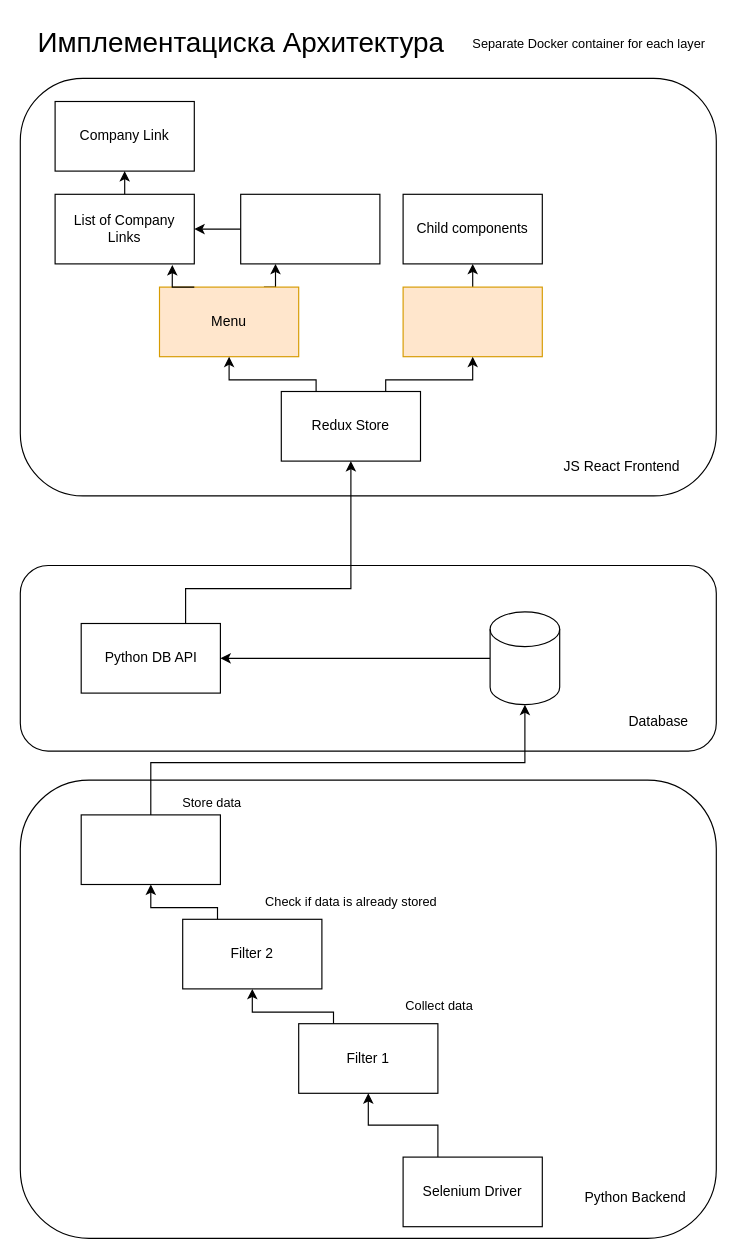
The diagram is 737 pixels wide and 1259 high, and some of its shapes have lost their labels. The shapes that lost their labels are listed below. From the top down, each one's centre as x and y in pixels, then its label:
At point (310, 228): "Search".
At point (472, 321): "Main Page".
At point (524, 658): "Postgres".
At point (150, 849): "Filter 3".
